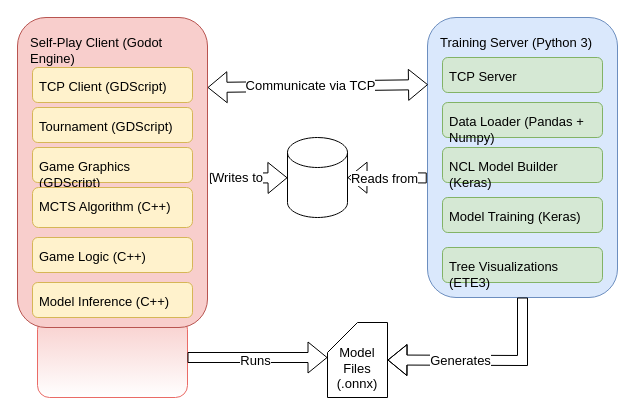
Some shapes in this 635 by 415 pixel diagram are drawn without their labels. The shapes that lost their labels are listed below. From the top down, each one's centre as x and y in pixels, then its label:
At pixel 317 177: "500MB RAM Disk".
At pixel 112 357: "ONNX Runtime (C++) [Native Third-party Library]".
